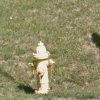Hydrant: (24, 36, 57, 97)
